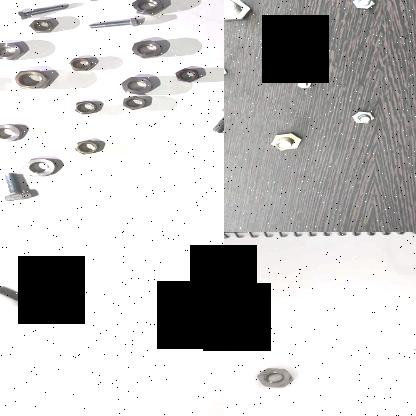Bolts: (0, 169, 39, 203), (0, 282, 41, 310), (262, 132, 308, 156), (15, 2, 70, 20), (224, 0, 262, 25), (347, 107, 381, 131), (86, 16, 144, 30), (206, 104, 224, 136), (346, 0, 382, 10), (289, 76, 311, 89), (224, 60, 235, 80)
NUTS: (248, 364, 306, 392), (224, 299, 254, 340), (18, 154, 58, 178), (11, 66, 51, 90), (127, 37, 169, 59), (68, 135, 106, 157), (119, 74, 156, 96), (69, 99, 104, 116), (0, 121, 27, 143), (0, 39, 24, 63), (131, 0, 166, 16), (170, 66, 204, 82), (27, 19, 57, 35), (118, 96, 147, 112)
